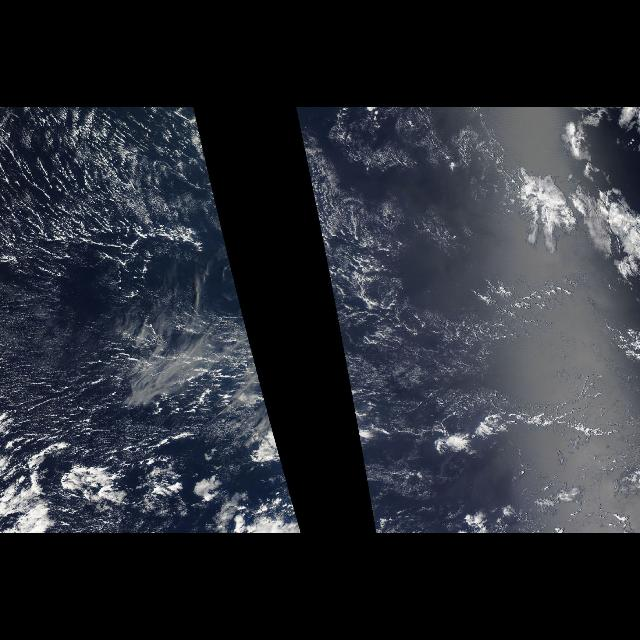Sugar: (296, 112, 622, 530), (1, 107, 301, 529)
